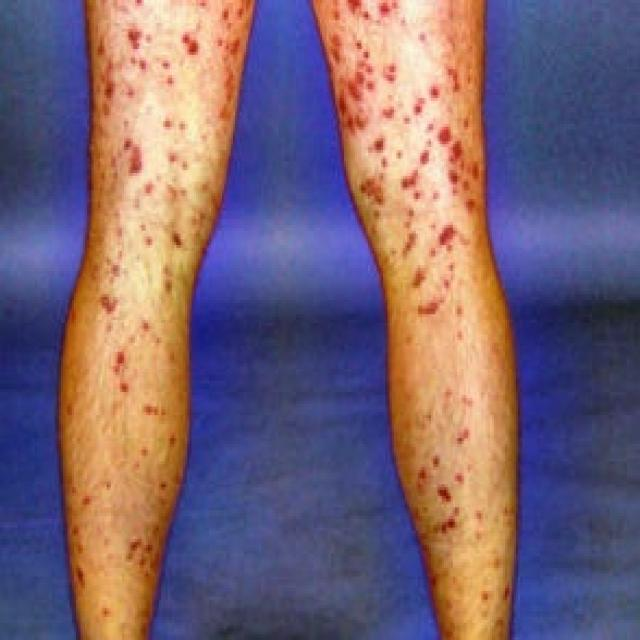Atopic-Dermatitis: (331, 9, 556, 593), (80, 9, 242, 564)
